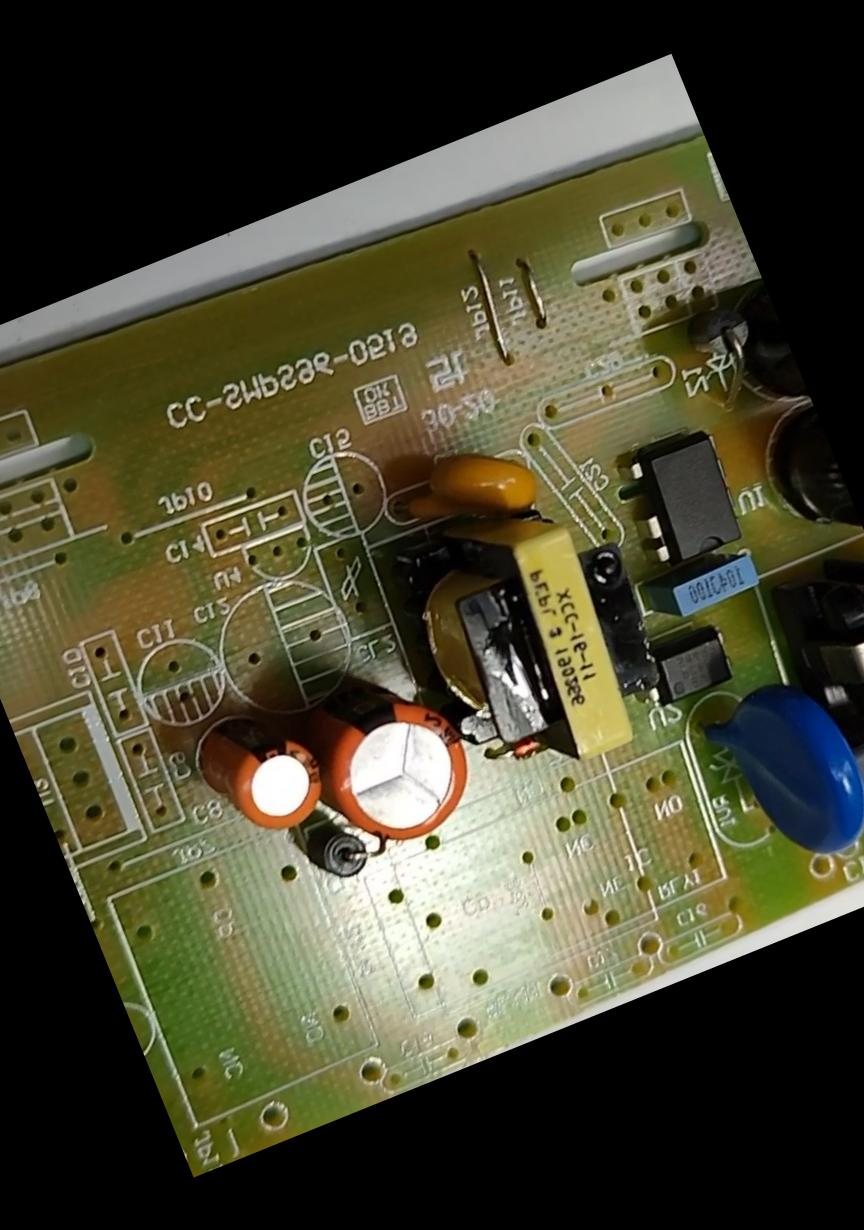Cap1: (293, 650, 491, 863)
Cap2: (185, 694, 336, 851)
Cap3: (751, 417, 863, 588)
Cap4: (716, 276, 823, 449)
MOSFET: (620, 426, 758, 574)
Mov: (695, 662, 863, 886)
Transformer: (389, 472, 675, 801), (782, 555, 863, 727)
